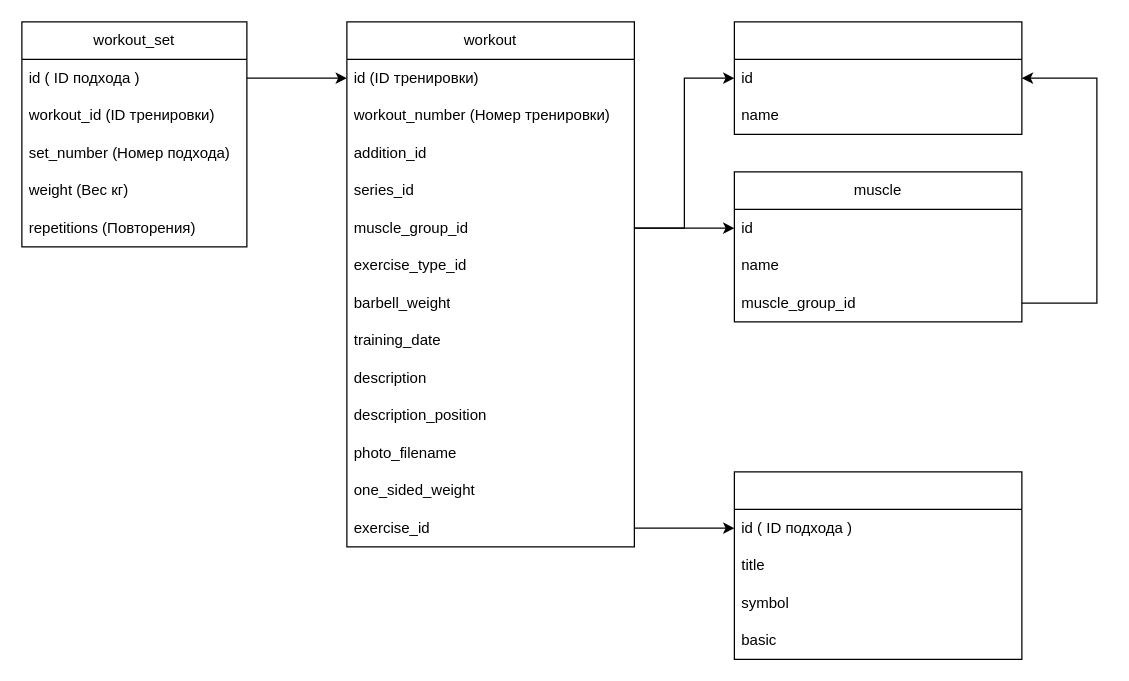
The diagram is 1129 pixels wide and 681 high, and some of its shapes have lost their labels. The box of each missing label's shape, as (x1, y1, x2, y2) in pixels:
exercise: (733, 471, 1022, 659)
muscle_group: (733, 21, 1022, 134)
